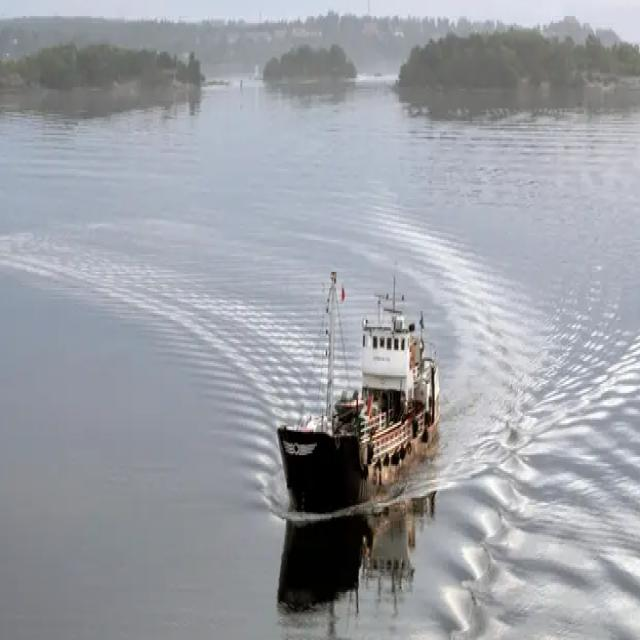fishing boat: (278, 268, 443, 500)
